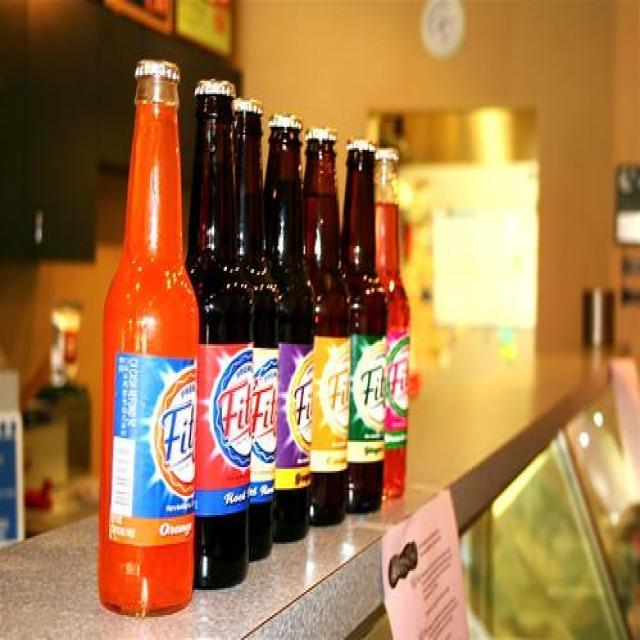glass bottle: (99, 60, 197, 617), (185, 79, 252, 597), (231, 100, 282, 563), (264, 113, 312, 545), (300, 129, 350, 529), (339, 138, 389, 516), (373, 148, 411, 501)
